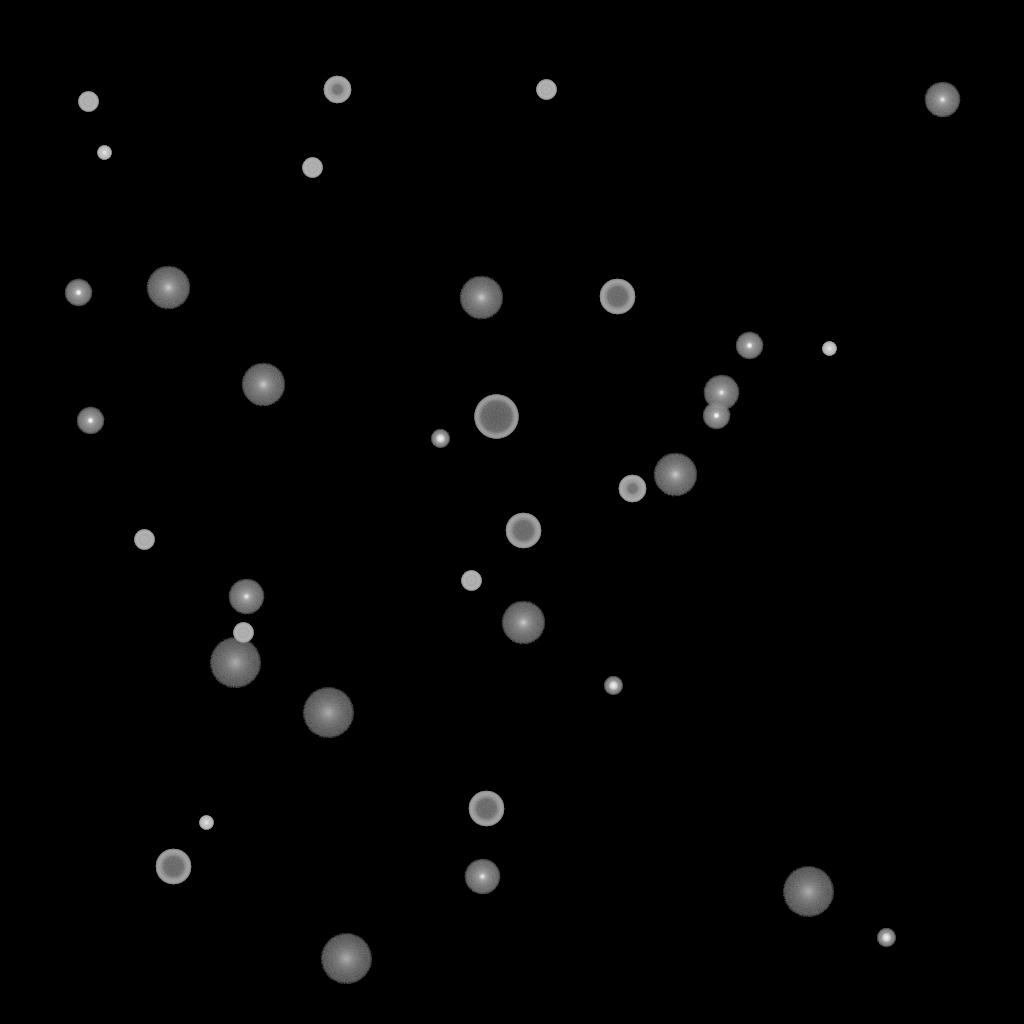depth:-10: (76, 407, 104, 435), (64, 279, 92, 307), (735, 332, 763, 360), (702, 402, 730, 430)
depth:-20: (604, 677, 622, 695), (877, 929, 895, 947), (431, 430, 449, 448)
depth:-30: (822, 342, 836, 356), (97, 146, 111, 160), (199, 816, 213, 830)
depth:-40: (302, 158, 322, 178), (134, 530, 154, 550), (233, 623, 253, 643), (461, 571, 481, 591), (78, 92, 98, 112), (536, 80, 556, 100)
depth:-50: (618, 475, 646, 503), (323, 76, 351, 104)
depth:-60: (599, 279, 635, 315), (468, 791, 504, 827), (505, 513, 541, 549), (155, 849, 191, 885)
depth:-70: (474, 395, 518, 439)
depth:0: (464, 859, 500, 895), (228, 579, 264, 615), (703, 375, 739, 411), (924, 82, 960, 118)
depth:10: (501, 601, 545, 645), (653, 453, 697, 497), (146, 266, 190, 310), (459, 276, 503, 320), (241, 363, 285, 407)
depth:20: (209, 638, 261, 688), (302, 688, 354, 738), (782, 867, 834, 917), (320, 934, 372, 984)
